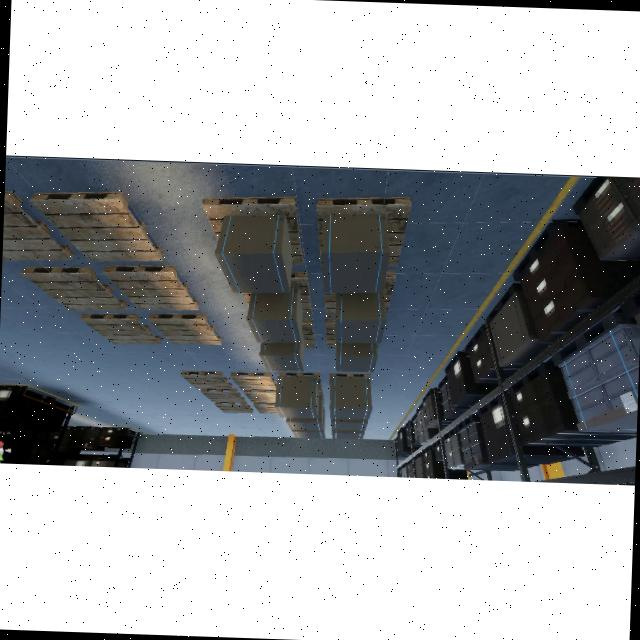wooden_pallet: (28, 191, 161, 258), (314, 197, 412, 268), (200, 194, 303, 261), (2, 190, 74, 264), (22, 267, 126, 311), (102, 267, 200, 311), (82, 312, 164, 344), (148, 314, 223, 346), (181, 371, 232, 389), (230, 371, 276, 389), (200, 389, 244, 402), (243, 389, 276, 403), (215, 402, 253, 413), (253, 402, 279, 413), (277, 372, 319, 377), (327, 373, 370, 377)
